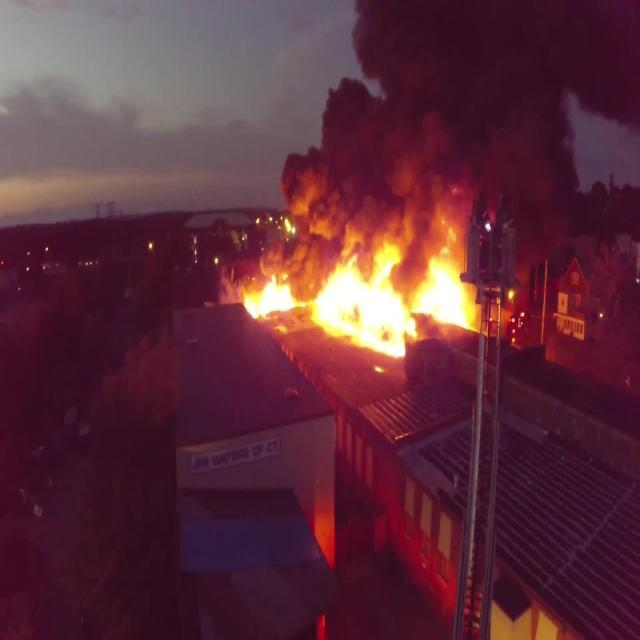Fire: (246, 248, 474, 352)
Smoke: (295, 0, 640, 244)
